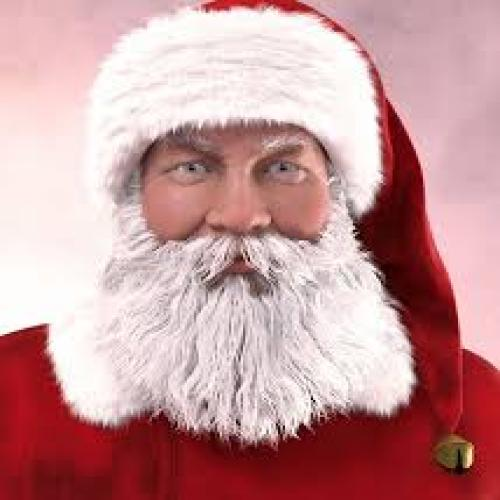Santa: (0, 0, 498, 498)
